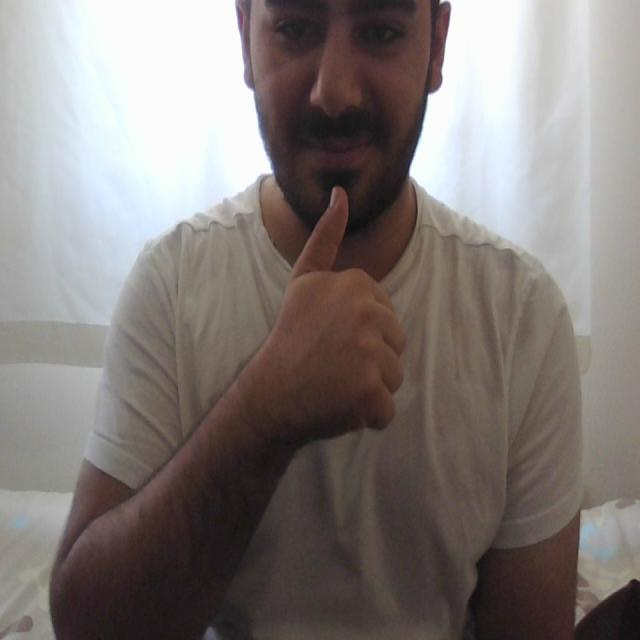Baba: (299, 131, 377, 270)
